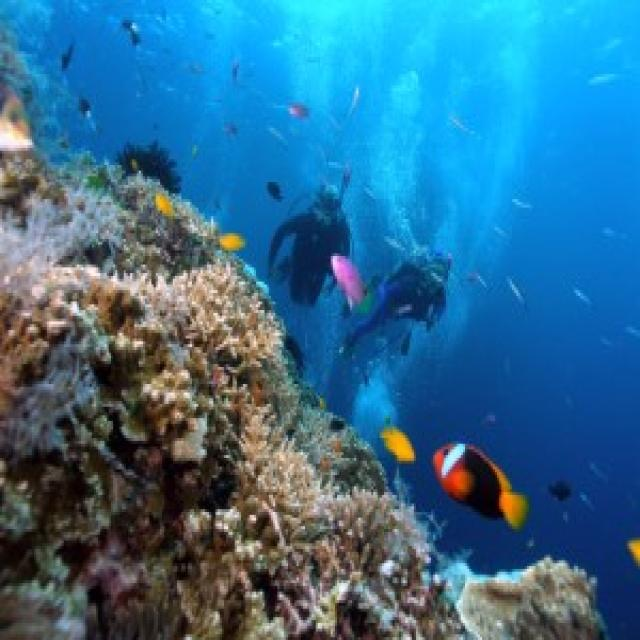Healthy: (1, 152, 464, 638)
